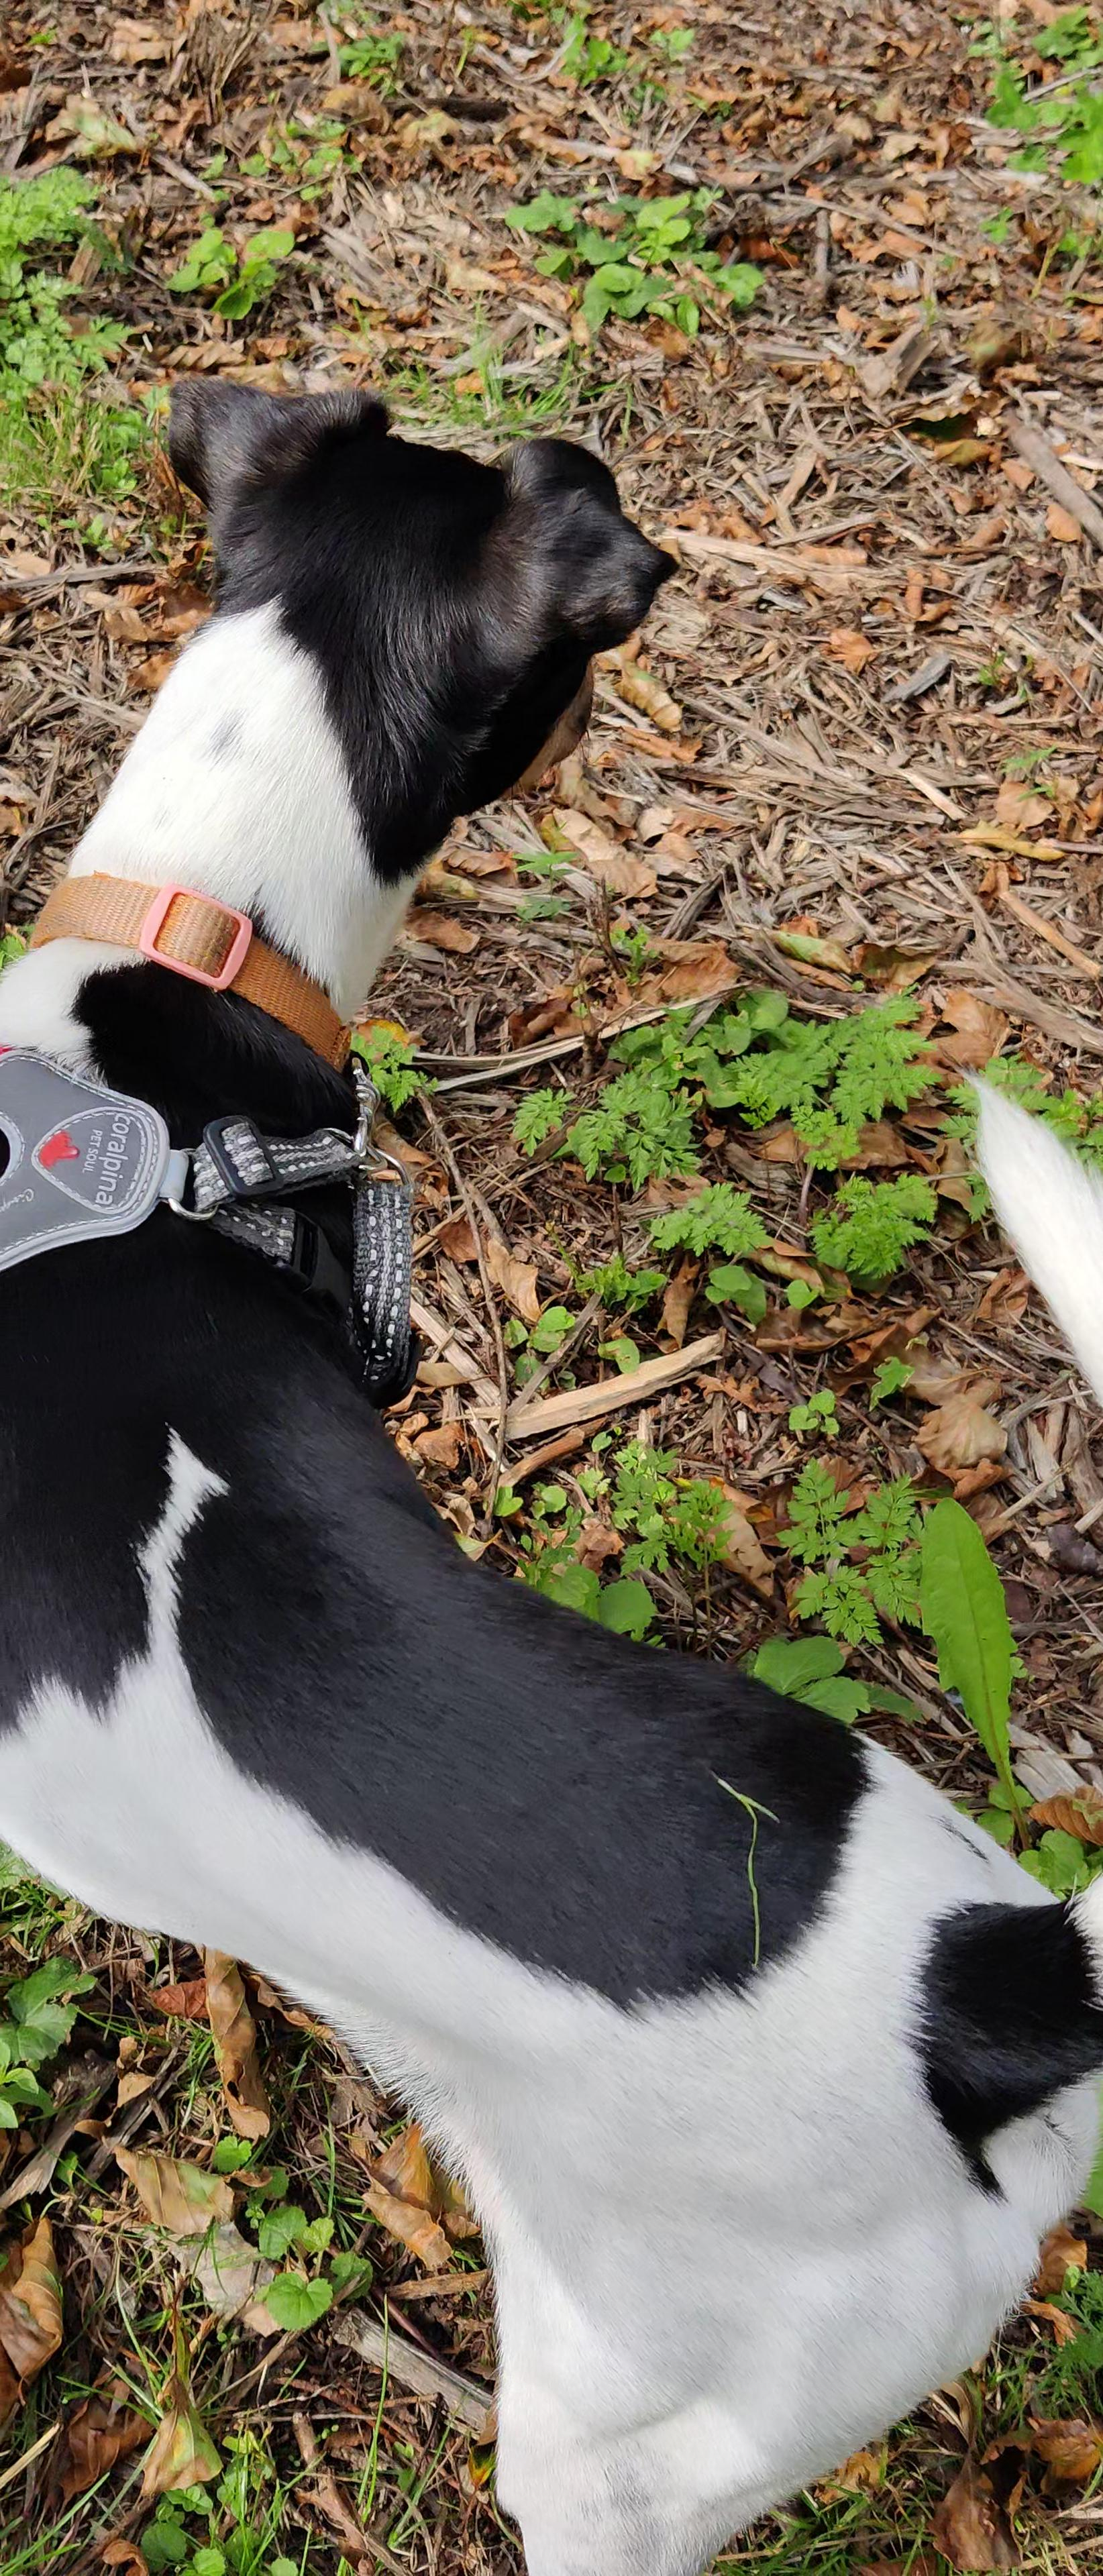Dog: (0, 342, 1103, 2576)
